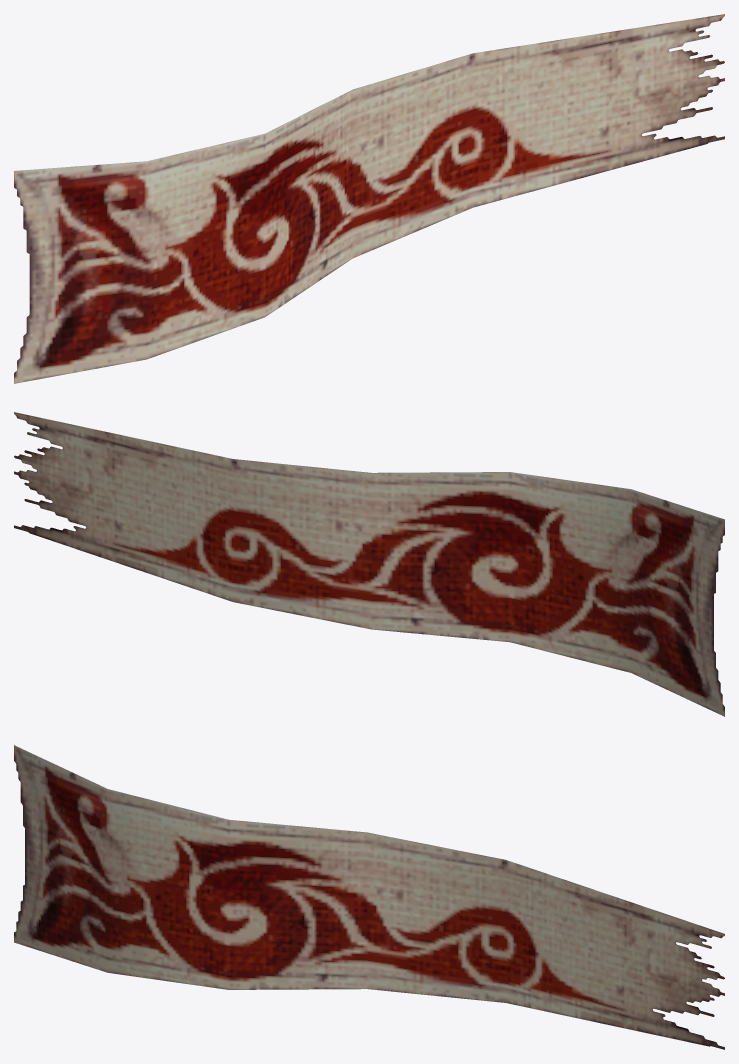
The model's file is Flag0.obj.
The picture shows the model from 3 angles, top to bottom: view 1: azimuth 30°, elevation 25°; view 2: azimuth 150°, elevation 25°; view 3: azimuth 330°, elevation 25°; orthographic projection. The views are drawn at different scales.
Size of the model in its own units: 119 by 32.87 by 14.42.
